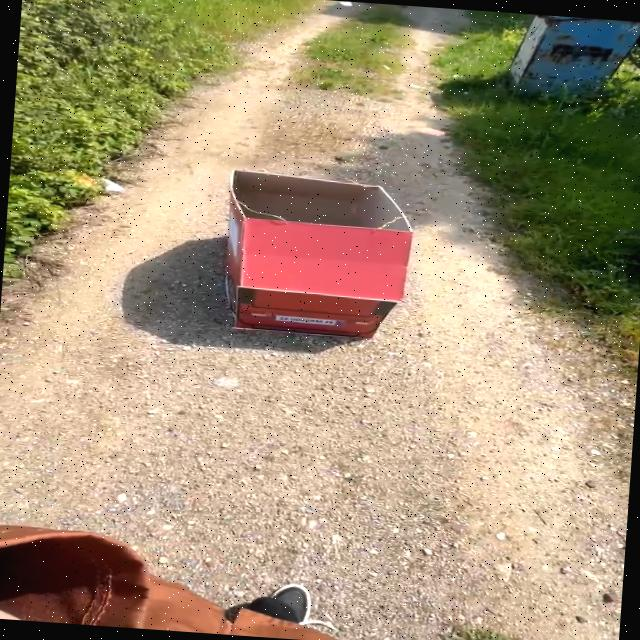red_car: (177, 159, 431, 358)
